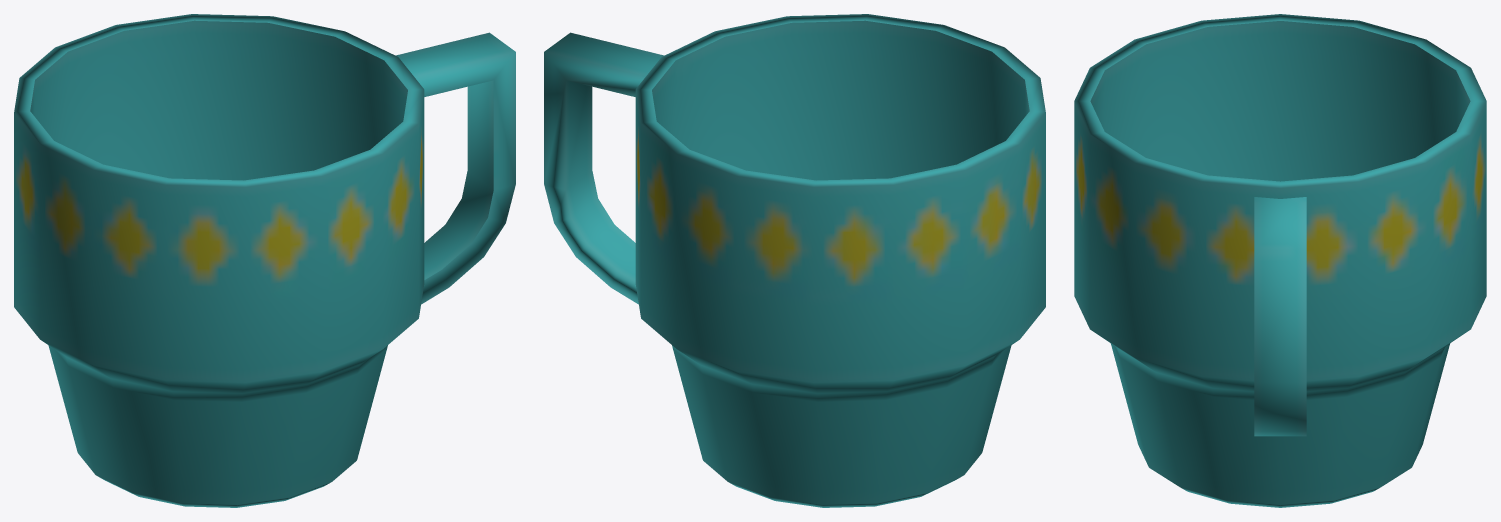
The model's file is pi_cup02_05.gltf.
3 views of the same model, side by side, from view 1: azimuth 30°, elevation 25°; view 2: azimuth 150°, elevation 25°; view 3: azimuth 270°, elevation 25° (orthographic).
Visible parts, largest first — view 1: pi_cup02_05_mesh_shape:pi_cup02_05_body01; view 2: pi_cup02_05_mesh_shape:pi_cup02_05_body01; view 3: pi_cup02_05_mesh_shape:pi_cup02_05_body01.
Boxes of the visible parts, <box> form: pi_cup02_05_mesh_shape:pi_cup02_05_body01: <box>14,14,515,507</box>; pi_cup02_05_mesh_shape:pi_cup02_05_body01: <box>544,14,1045,507</box>; pi_cup02_05_mesh_shape:pi_cup02_05_body01: <box>1074,14,1486,507</box>.
Size of what is drawn, in the model's own units: 0.1646 by 0.1197 by 0.1275.
1 material, 1 textured.
